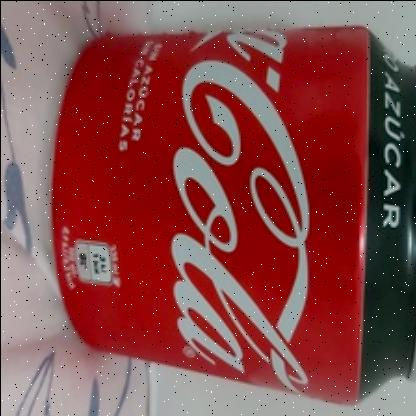Can: (51, 26, 416, 406)
